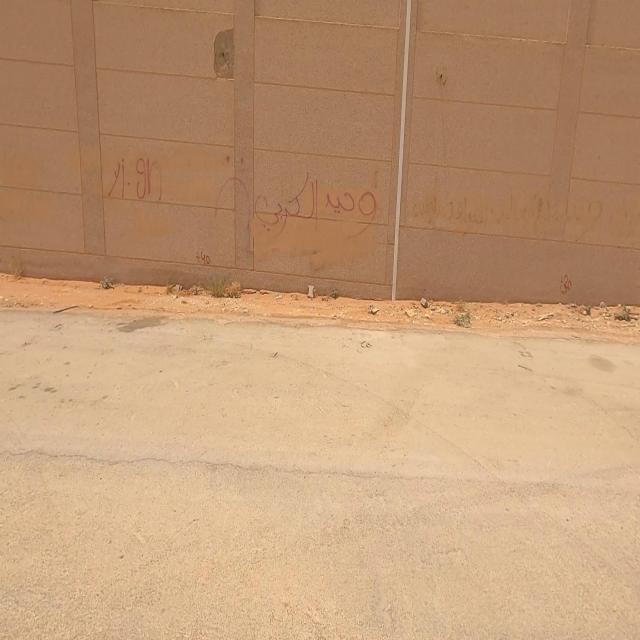debris: (127, 83, 468, 306), (51, 91, 220, 268)
